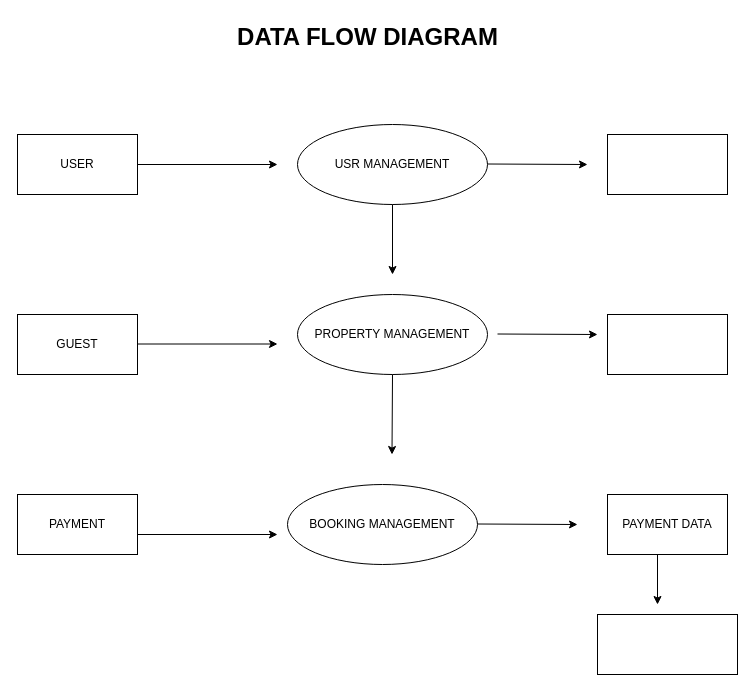
The diagram is 755 pixels wide and 692 high, and some of its shapes have lost their labels. The shapes that lost their labels are listed below. From the top down, each one's box as (x1, y1, x2, y2) in pixels, then its label:
(606, 134, 728, 194): USER DATA
(606, 314, 728, 374): PROPERTY DATA
(596, 614, 738, 674): PAYMENT GETEWAY
